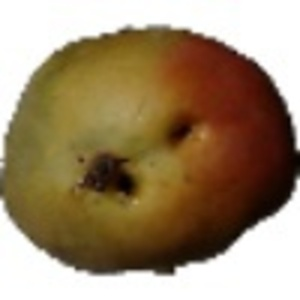mamão: (2, 14, 296, 281)
